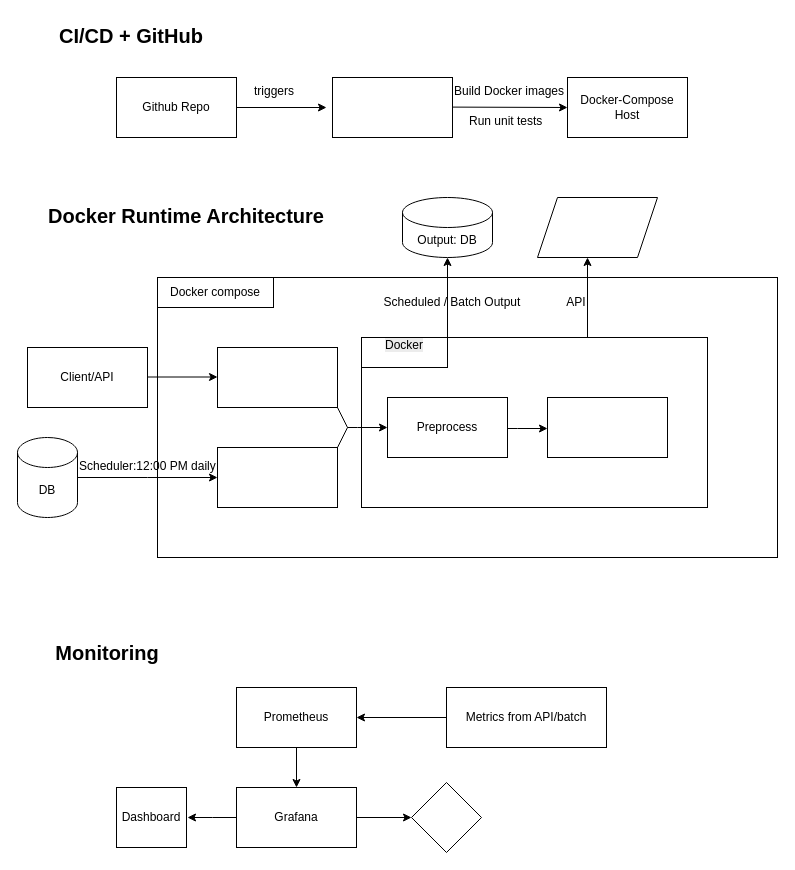
The diagram is 795 pixels wide and 870 high, and some of its shapes have lost their labels. Each missing label, with the centre of its shape:
"Alert" goes at point (446, 817).
"Batch Runner" goes at point (277, 477).
"Github Action" goes at point (392, 107).
"Json resp" goes at point (597, 227).
"Prediction" goes at point (607, 427).
"REST API (Flask)" goes at point (277, 377).
